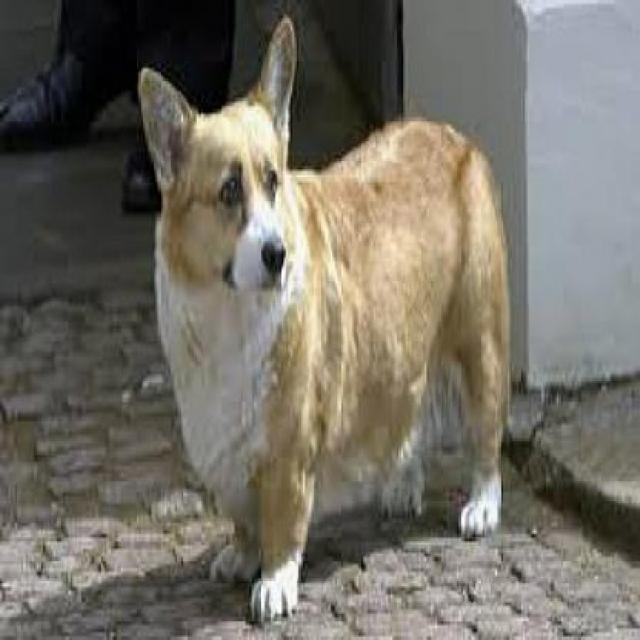Dog: (134, 17, 521, 626)
